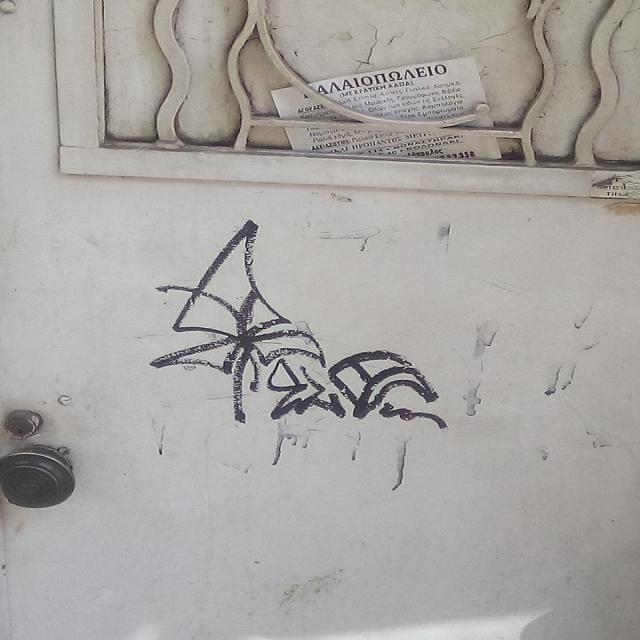nonspitting: (151, 220, 447, 430)
